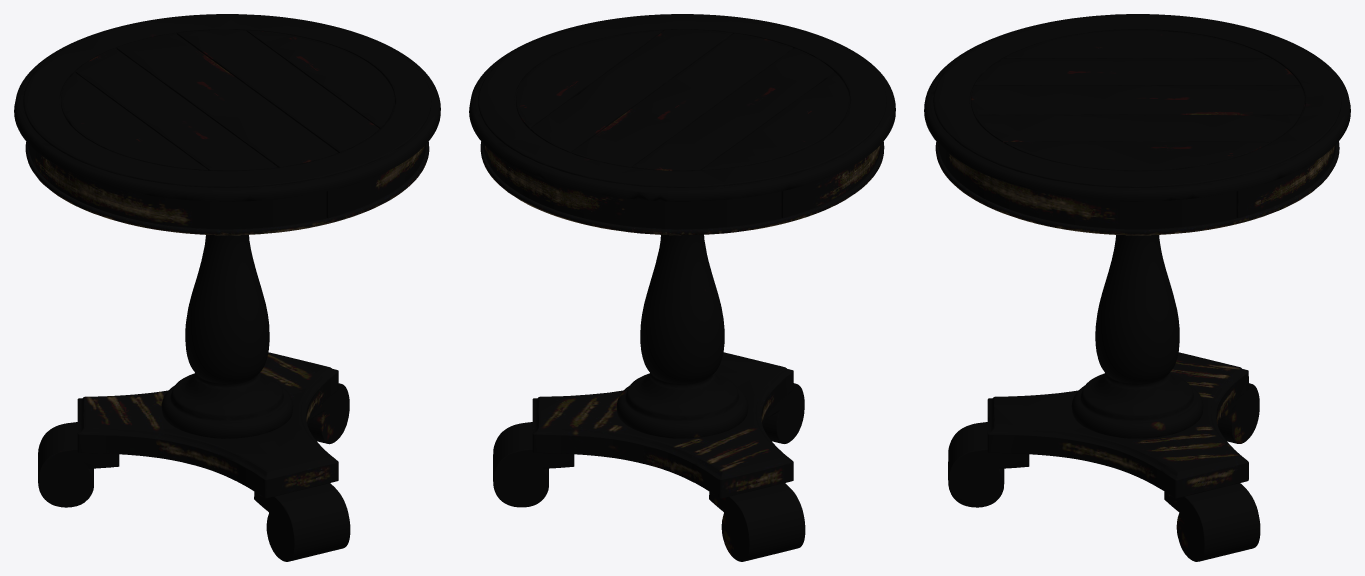
Rendered from FDLL2143.obj.
The picture shows the model from 3 angles, left to right: view 1: azimuth 30°, elevation 25°; view 2: azimuth 150°, elevation 25°; view 3: azimuth 270°, elevation 25°; orthographic projection.
Visible parts, largest first — view 1: not_clear_obj_0_v6; view 2: not_clear_obj_0_v6; view 3: not_clear_obj_0_v6.
Boxes of the visible parts, <box> form: not_clear_obj_0_v6: <box>14,14,440,561</box>; not_clear_obj_0_v6: <box>469,14,895,561</box>; not_clear_obj_0_v6: <box>924,14,1350,561</box>.
Size of what is drawn, in the model's own units: 66.1 by 67.31 by 66.07.
